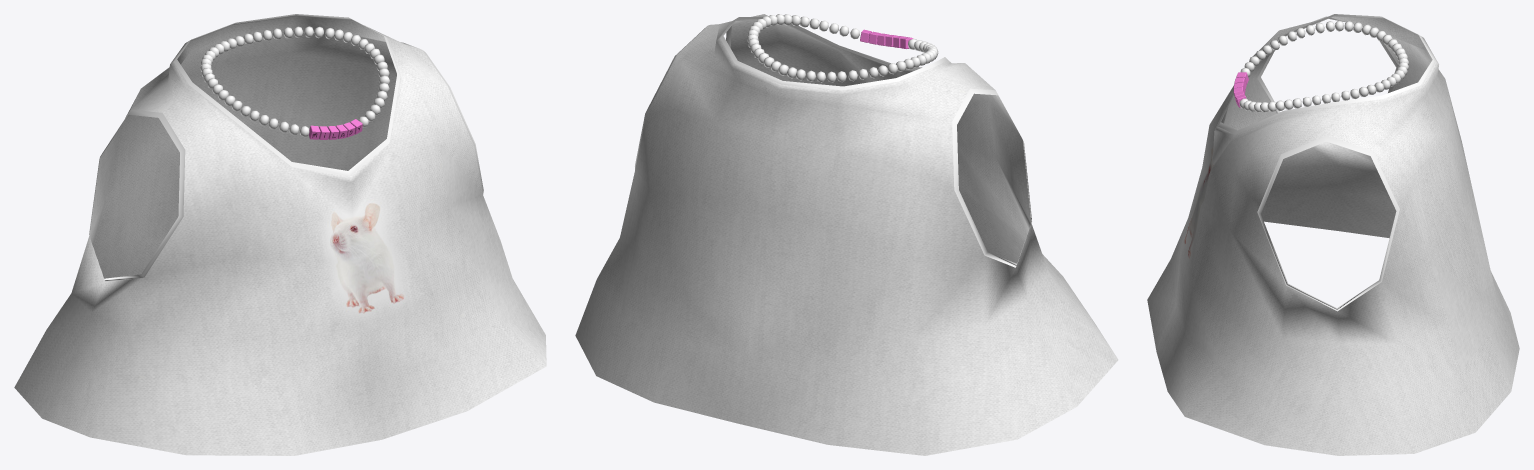
File: Mouse_Tank.glb
3 views of the same model, side by side, from view 1: azimuth 30°, elevation 25°; view 2: azimuth 150°, elevation 25°; view 3: azimuth 270°, elevation 25° (orthographic). The views are drawn at different scales.
Visible parts, largest first — view 1: Mouse_Tank; view 2: Mouse_Tank; view 3: Mouse_Tank.
Boxes of the visible parts, left/top/right/bottom form: Mouse_Tank: left=14, top=14, right=546, bottom=455; Mouse_Tank: left=575, top=14, right=1118, bottom=455; Mouse_Tank: left=1147, top=14, right=1519, bottom=455.
Bounding box in the file's own units: 0.5767 × 0.3688 × 0.4105.
4 materials, 2 textured.
